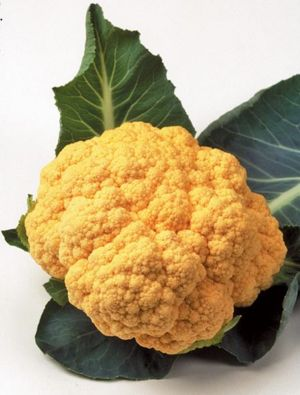cauliflower: (23, 120, 289, 357)
